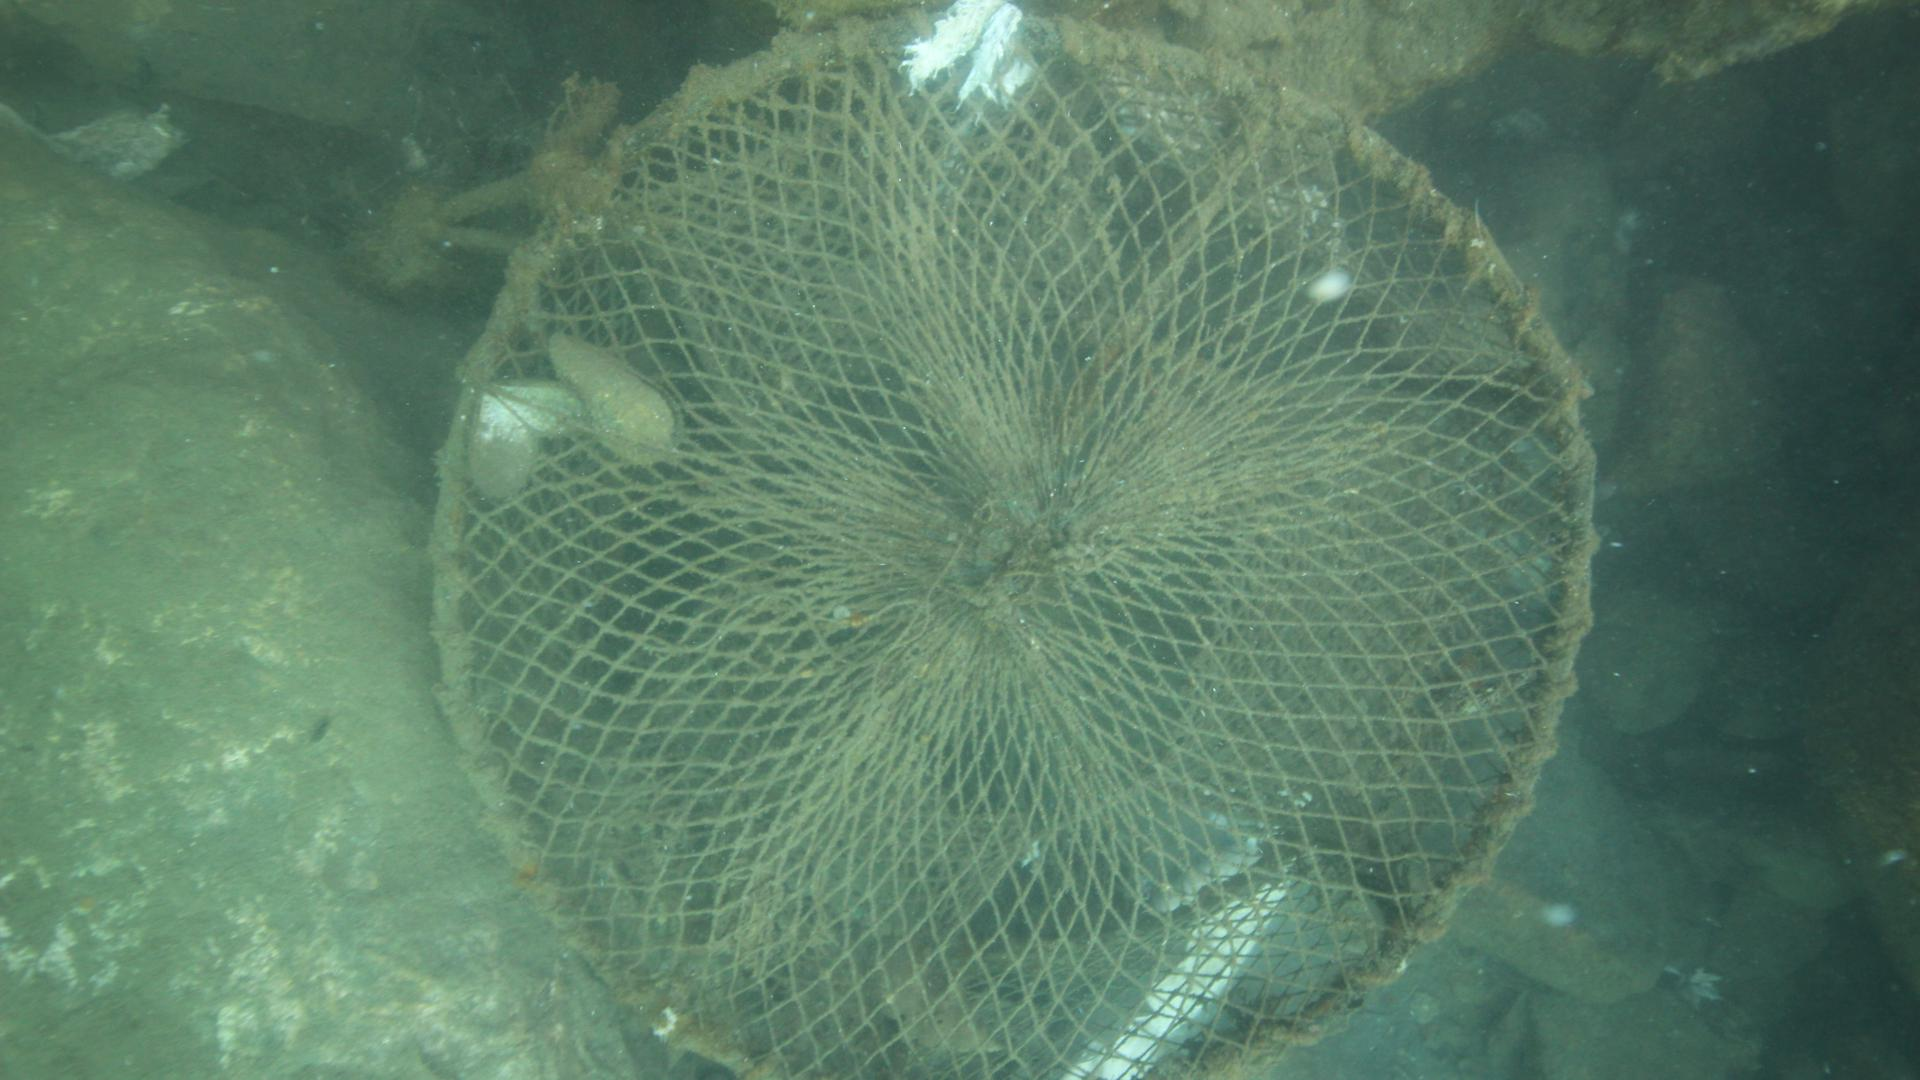circular fish trap: (426, 5, 1600, 1080)
